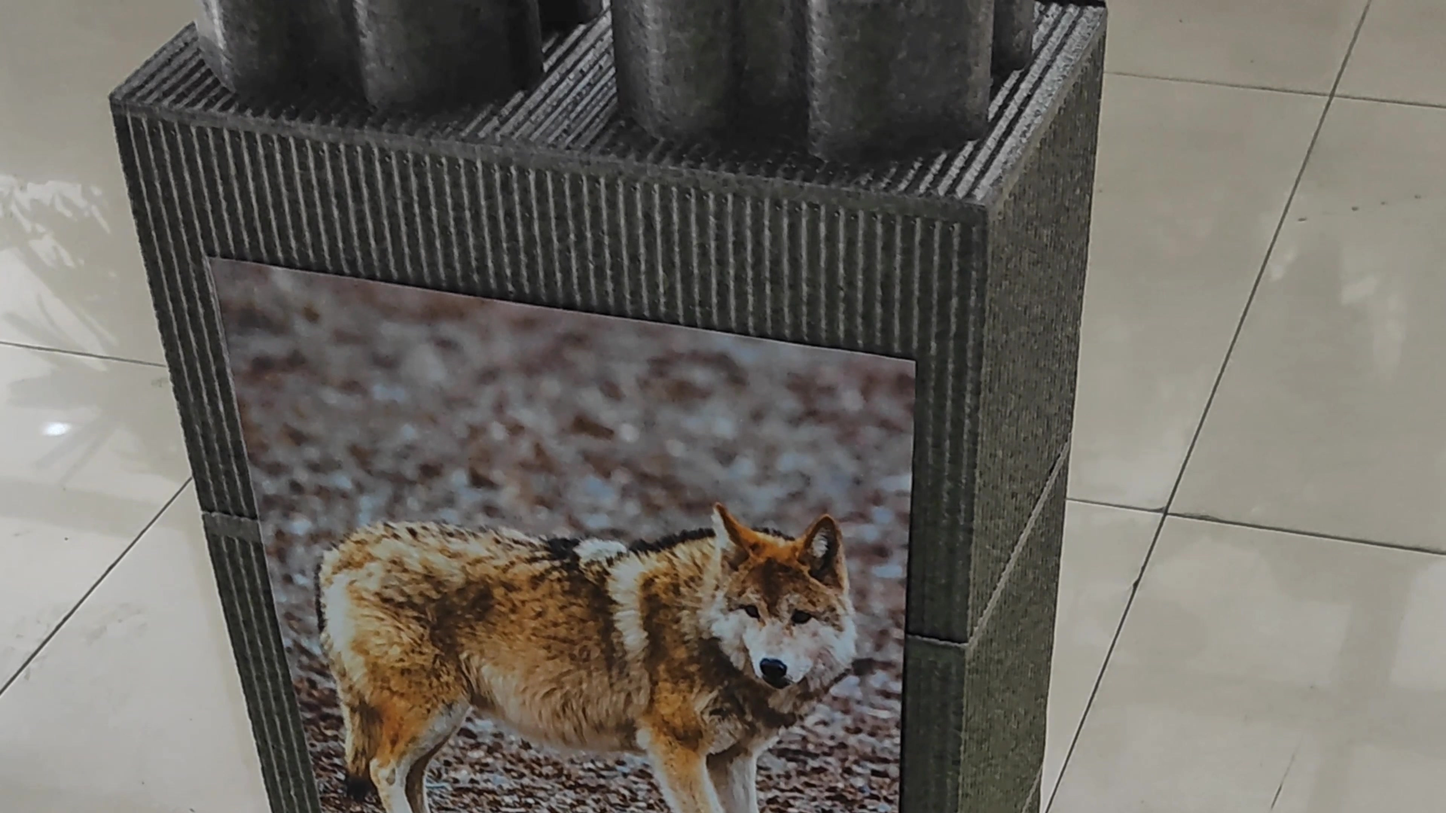wolf: (281, 408, 873, 802)
